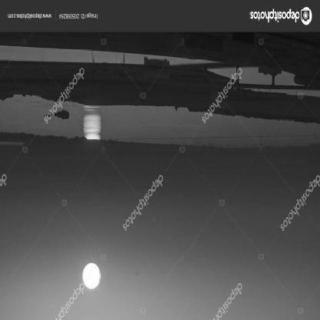other: (72, 101, 102, 151), (78, 253, 102, 299)
